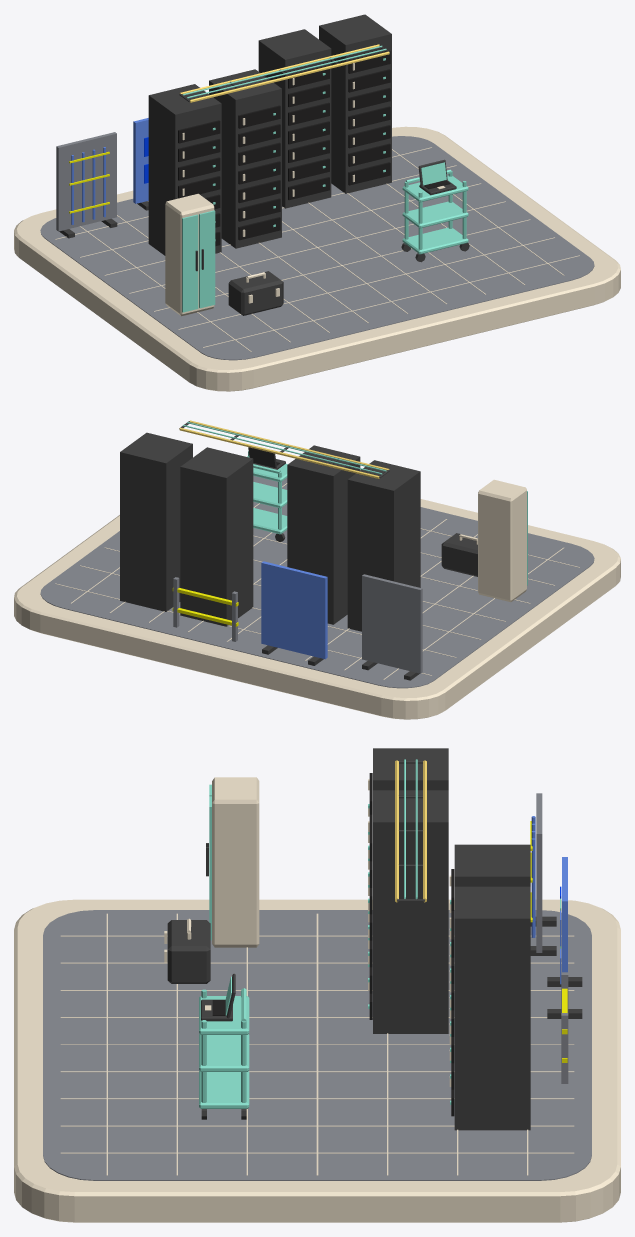
The picture shows the model from 3 angles, top to bottom: view 1: azimuth 30°, elevation 25°; view 2: azimuth 150°, elevation 25°; view 3: azimuth 270°, elevation 25°; orthographic projection. The views are drawn at different scales.
Visible parts, largest first — view 1: COM-02 Floor Surface, COM-01 Rounded Base Direct, Server case, Server case.003, Server case.001, Server case.002, Panel, Equipment case, Case, Door, Door.001, Panel.001 (+28 smaller); view 2: COM-02 Floor Surface, COM-01 Rounded Base Direct, Server case.002, Server case.003, Server case, Server case.001, Panel.001, Equipment case, Panel, Case, Cable rail.001, Tray (+4 smaller); view 3: COM-02 Floor Surface, COM-01 Rounded Base Direct, Server case.003, Server case.001, Equipment case, Server case.002, Server case, Case, Tray.001, Tray, Panel, Tray.002 (+6 smaller).
Part boxes in pixels (x1=…): COM-02 Floor Surface: x1=40, y1=136, x2=594, y2=360; COM-01 Rounded Base Direct: x1=14, y1=126, x2=620, y2=391; Server case: x1=148, y1=84, x2=221, y2=255; Server case.003: x1=319, y1=14, x2=391, y2=193; Server case.001: x1=209, y1=69, x2=281, y2=248; Server case.002: x1=258, y1=29, x2=331, y2=208; Panel: x1=56, y1=132, x2=116, y2=231; Equipment case: x1=165, y1=193, x2=214, y2=316; Case: x1=228, y1=271, x2=283, y2=315; Door: x1=182, y1=214, x2=198, y2=312; Door.001: x1=199, y1=210, x2=215, y2=308; Panel.001: x1=133, y1=118, x2=148, y2=203; COM-02 Floor Surface: x1=40, y1=476, x2=594, y2=688; COM-01 Rounded Base Direct: x1=14, y1=456, x2=620, y2=719; Server case.002: x1=180, y1=447, x2=253, y2=626; Server case.003: x1=120, y1=432, x2=192, y2=611; Server case: x1=347, y1=460, x2=420, y2=631; Server case.001: x1=287, y1=445, x2=360, y2=624; Panel.001: x1=261, y1=561, x2=327, y2=659; Equipment case: x1=478, y1=479, x2=526, y2=602; Panel: x1=362, y1=574, x2=422, y2=673; Case: x1=441, y1=533, x2=477, y2=576; Cable rail.001: x1=179, y1=427, x2=379, y2=478; Tray: x1=253, y1=508, x2=287, y2=534; COM-02 Floor Surface: x1=43, y1=910, x2=591, y2=1180; COM-01 Rounded Base Direct: x1=14, y1=899, x2=620, y2=1222; Server case.003: x1=454, y1=886, x2=530, y2=1130; Server case.001: x1=373, y1=790, x2=448, y2=1033; Equipment case: x1=212, y1=777, x2=259, y2=947; Server case.002: x1=454, y1=844, x2=530, y2=886; Server case: x1=373, y1=748, x2=448, y2=790; Case: x1=167, y1=920, x2=210, y2=983; Tray.001: x1=199, y1=1034, x2=249, y2=1071; Tray: x1=199, y1=1071, x2=249, y2=1108; Panel: x1=536, y1=793, x2=542, y2=952; Tray.002: x1=199, y1=996, x2=249, y2=1034.
Bounding box in the file's own units: 6 × 2.35 × 5.2.
Materials: 1 (1 with a texture image).
